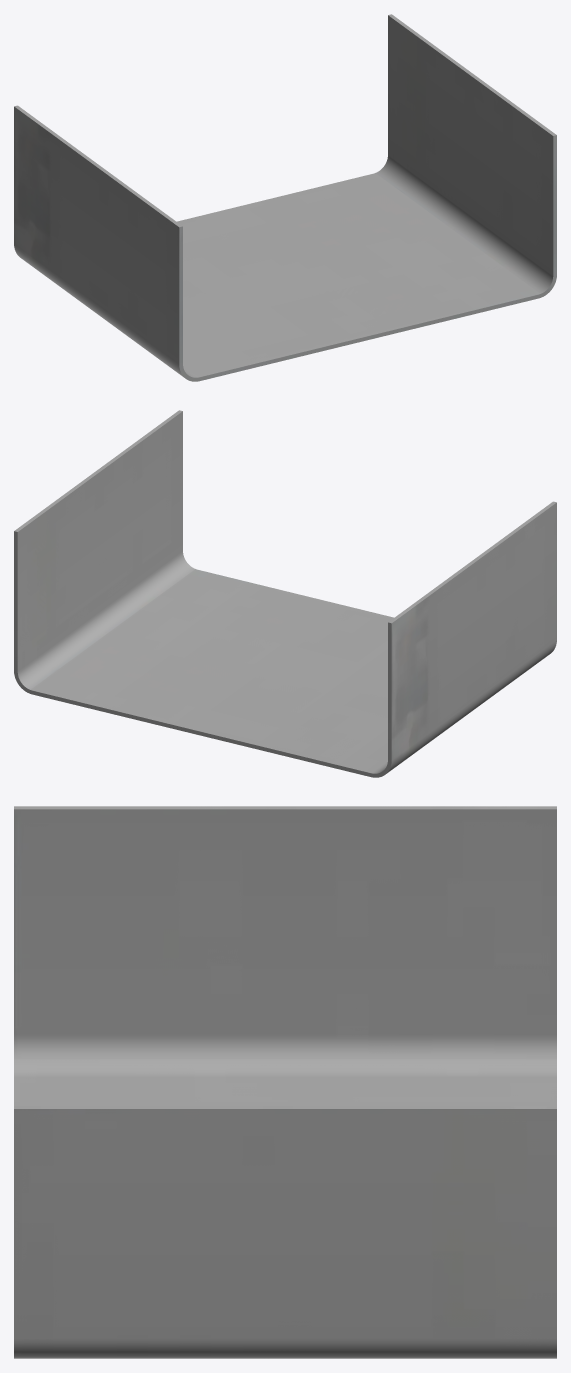
File: link_1__shelf-16.glb
3 renders of one model, top to bottom at view 1: azimuth 30°, elevation 25°; view 2: azimuth 150°, elevation 25°; view 3: azimuth 270°, elevation 25°, orthographic. The views are drawn at different scales.
Visible parts, largest first — view 1: geometry_0; view 2: geometry_0; view 3: geometry_0.
Part boxes in pixels (left/top/right/bottom): geometry_0: left=14, top=14, right=556, bottom=381; geometry_0: left=14, top=410, right=556, bottom=777; geometry_0: left=14, top=806, right=556, bottom=1358.
Size of the model in its own units: 0.9598 by 0.3858 by 0.7273.
Materials: 1 (1 with a texture image).
